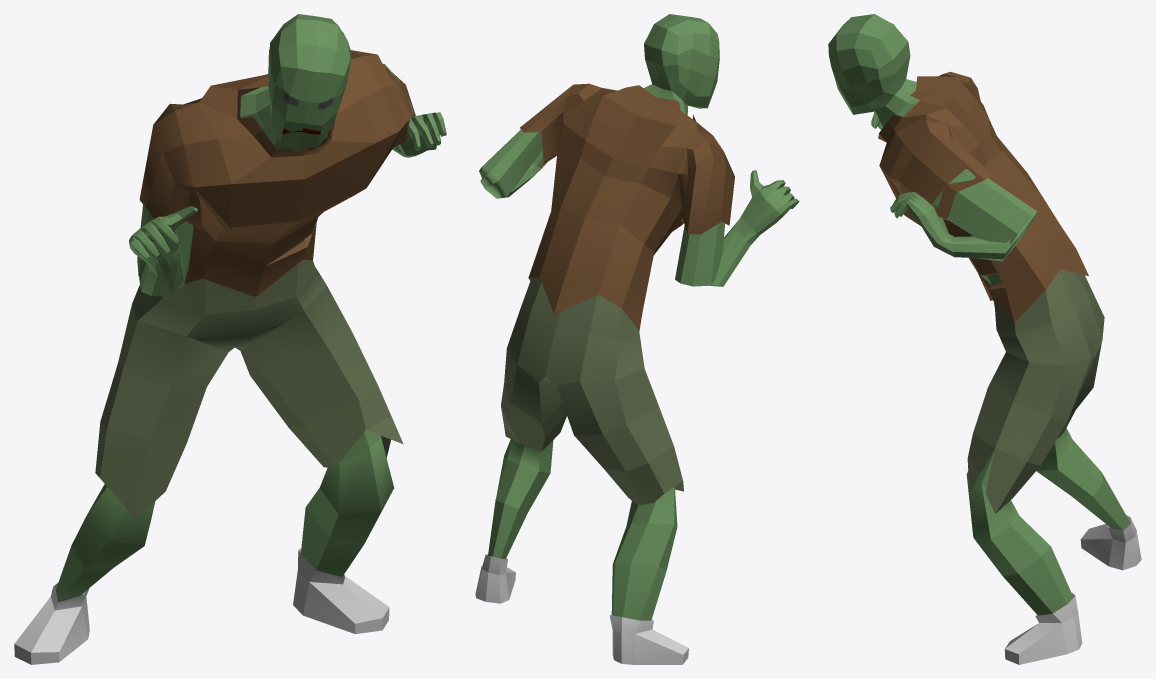
Rendered from ZombieAttack(72).obj.
The picture shows the model from 3 angles, left to right: view 1: azimuth 30°, elevation 25°; view 2: azimuth 150°, elevation 25°; view 3: azimuth 270°, elevation 25°; orthographic projection. The views are drawn at different scales.
Visible parts, largest first — view 1: Object001; view 2: Object001; view 3: Object001.
Part boxes in pixels (<box>): Object001: <box>14,14,446,664</box>; Object001: <box>475,14,799,664</box>; Object001: <box>828,14,1141,664</box>.
Bounding box in the file's own units: 26.73 × 52.33 × 25.65.
